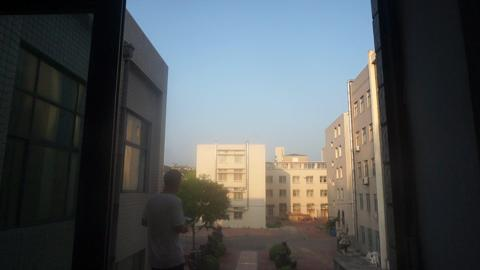UAV: (303, 177, 308, 180)
